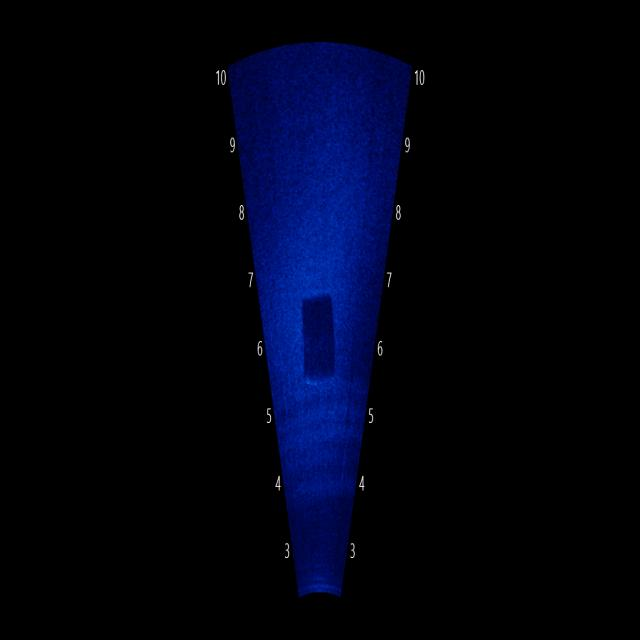square: (284, 262, 354, 438)
